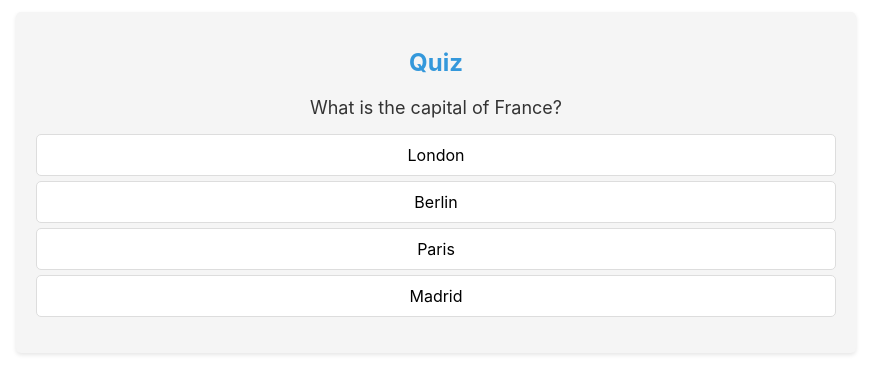
Test: App › progresses_to_the_third_question_after_selecting_an_answer_for_the_second_question
Note: Select an answer for the first question
Click the list item "Berlin" at [436, 202], box [36,181,836,223]
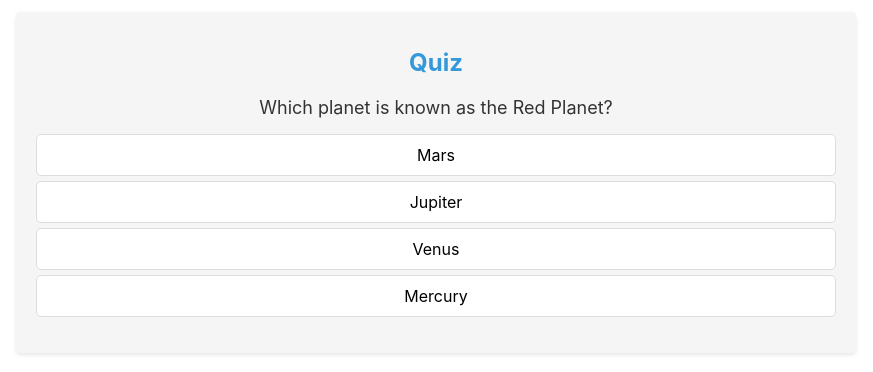
Note: Select an answer for the second question
Click the list item "Mars" at [436, 155], box [36,134,836,176]
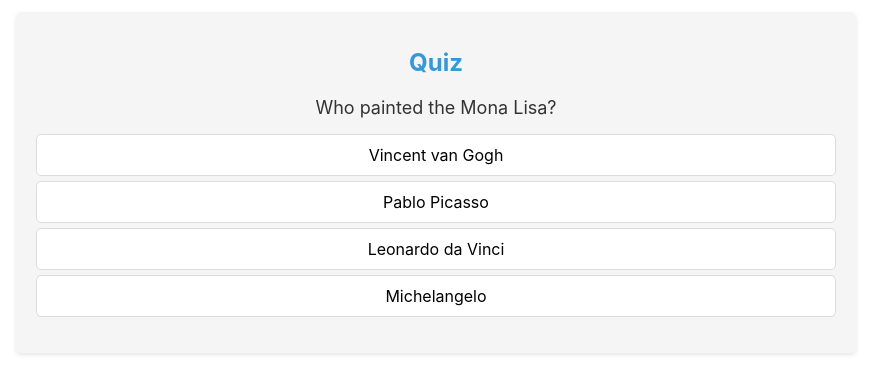
Check: the text "Who painted the Mona Lisa?" is shown, box [315,97,556,118]
Check: the list item "Mars" is gone
